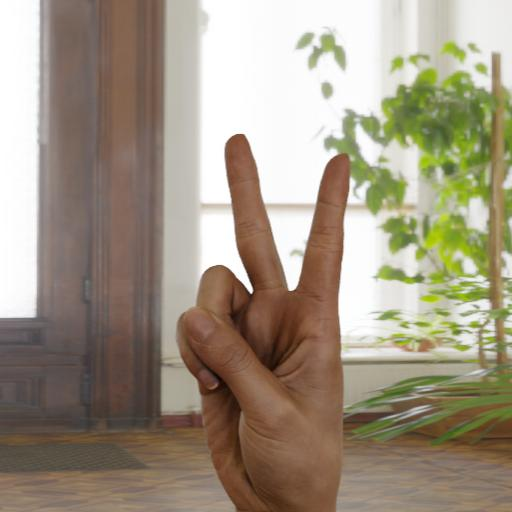V: (166, 119, 366, 512)
